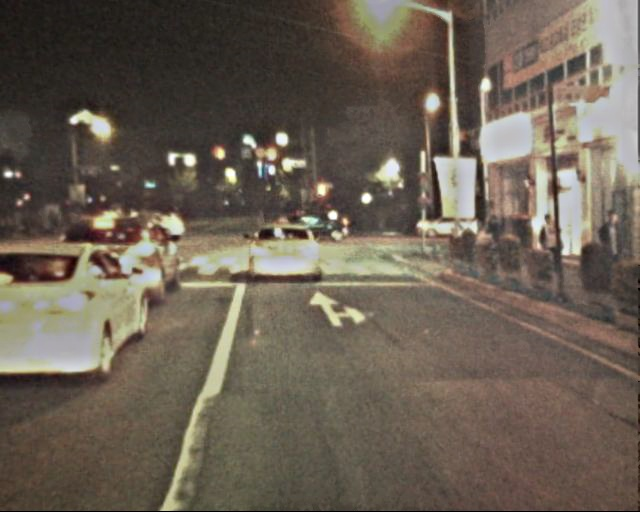person: (597, 210, 631, 293), (536, 213, 565, 283), (27, 202, 78, 235)
